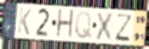2: (36, 8, 51, 38)
H: (55, 8, 75, 41)
K: (17, 7, 33, 37)
Q: (74, 10, 92, 41)
X: (94, 10, 117, 43)
Z: (114, 13, 134, 43)
